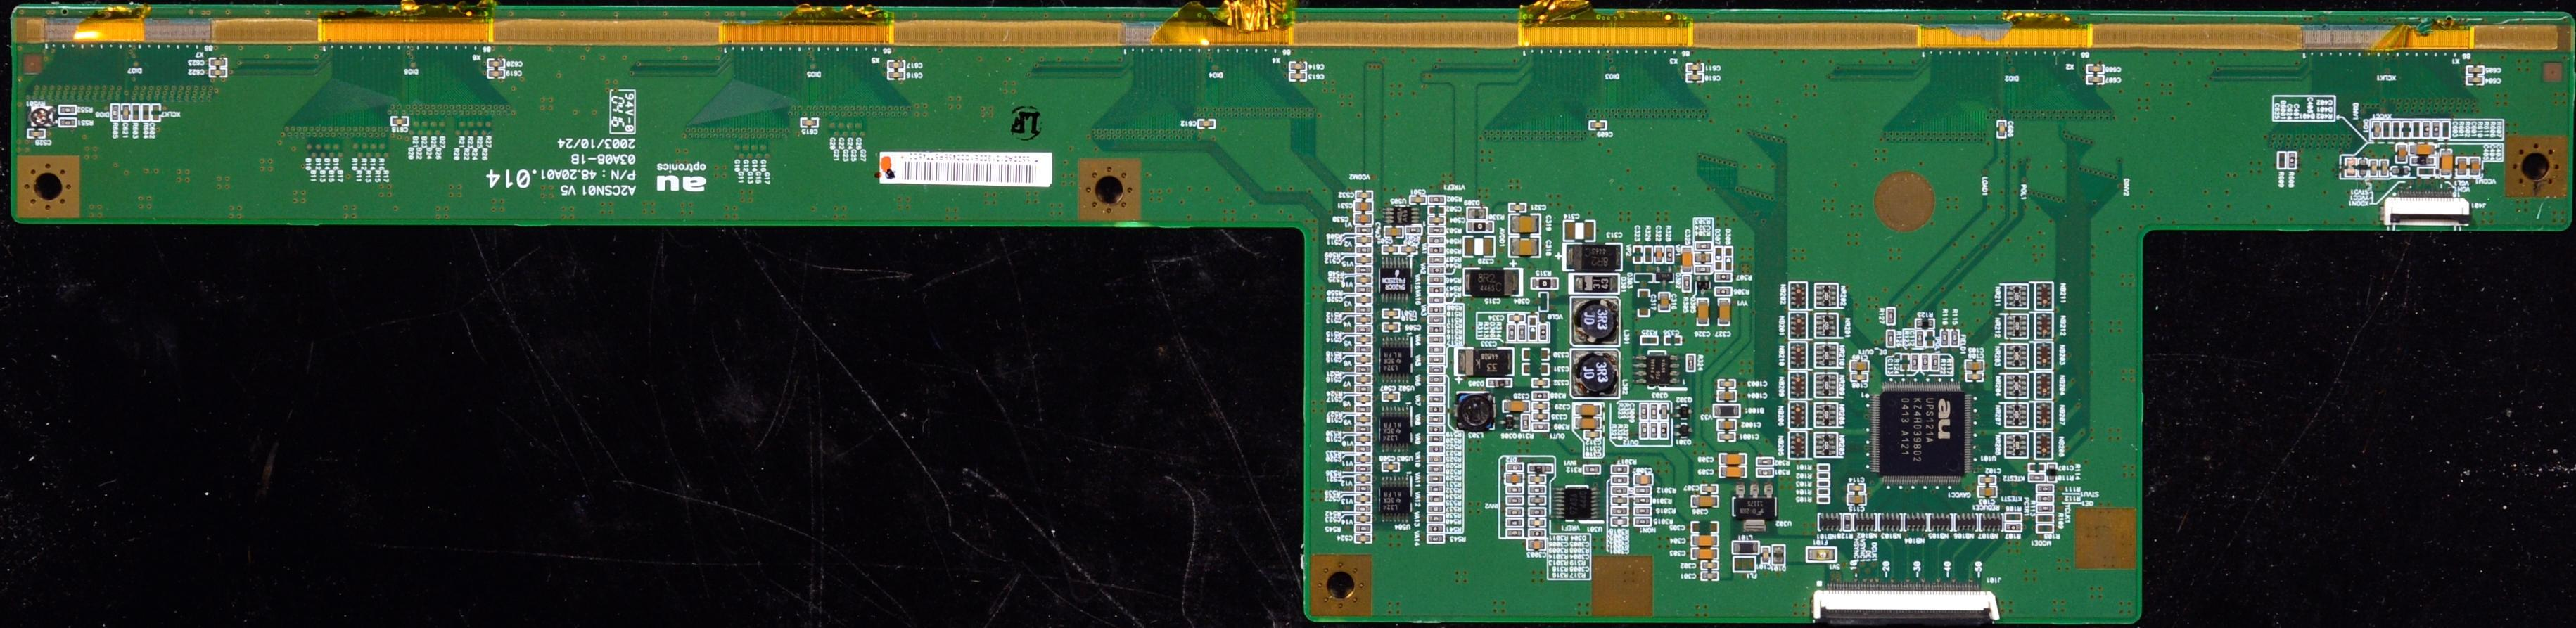Capacitor: (2395, 140, 2487, 178), (1475, 311, 1553, 344), (1464, 268, 1525, 304), (1564, 242, 1626, 273), (1690, 521, 1722, 561), (1464, 233, 1503, 263), (1508, 232, 1543, 258), (1510, 214, 1543, 237), (1720, 454, 1750, 478), (1978, 472, 2001, 501), (1847, 482, 1870, 511), (1566, 222, 1595, 243), (828, 122, 866, 138), (736, 145, 772, 161), (389, 113, 416, 135), (1689, 495, 1720, 511), (1911, 353, 1940, 370), (800, 113, 823, 133), (1718, 298, 1733, 327), (1717, 388, 1741, 404), (1695, 298, 1709, 326), (1523, 349, 1551, 362), (1525, 362, 1553, 375), (1700, 562, 1718, 582), (1196, 117, 1219, 132), (2027, 460, 2057, 472), (1533, 401, 1549, 421), (1658, 289, 1671, 312), (1641, 289, 1653, 316), (1576, 404, 1602, 416), (1576, 418, 1602, 429), (26, 127, 48, 140), (1355, 201, 1377, 214), (1355, 212, 1377, 225), (2423, 122, 2441, 136), (207, 67, 230, 79), (486, 71, 509, 82), (2468, 76, 2491, 87), (207, 56, 230, 67), (887, 58, 907, 71), (1286, 62, 1313, 72), (889, 71, 910, 82), (151, 100, 163, 122), (1633, 475, 1654, 487), (486, 58, 508, 69), (1288, 72, 1313, 82), (1666, 335, 1684, 349), (1533, 375, 1551, 388), (1610, 515, 1628, 528), (2371, 120, 2382, 140), (1426, 205, 1449, 215), (1355, 235, 1375, 247), (1355, 273, 1375, 284), (1510, 312, 1529, 324), (1717, 378, 1737, 390), (1357, 353, 1375, 365), (1717, 432, 1735, 444), (1686, 247, 1694, 271), (1357, 294, 1373, 306), (1357, 314, 1375, 324), (1901, 353, 1911, 372), (1355, 455, 1373, 465), (1700, 483, 1718, 493), (1528, 541, 1546, 551), (1359, 255, 1375, 265), (1355, 334, 1372, 344), (123, 99, 130, 122), (1635, 245, 1643, 263), (2468, 67, 2486, 76), (1429, 215, 1444, 225), (1927, 334, 1937, 349), (1357, 395, 1372, 404), (1656, 247, 1664, 263), (1355, 515, 1372, 523), (1355, 192, 1375, 199), (1359, 373, 1372, 383), (1585, 431, 1600, 439), (1357, 496, 1372, 505), (1357, 418, 1372, 424), (1357, 436, 1372, 442), (1357, 477, 1372, 483)
Resistor: (1429, 424, 1444, 533), (1641, 404, 1672, 439), (348, 138, 391, 159), (2037, 485, 2057, 531), (2382, 120, 2423, 138), (28, 102, 57, 127), (1817, 462, 1833, 505), (1429, 225, 1446, 266), (1429, 302, 1446, 339), (455, 122, 495, 136), (1429, 273, 1446, 301), (2280, 148, 2298, 173), (2006, 508, 2022, 533), (1943, 329, 1963, 347), (1914, 316, 1937, 329), (2031, 473, 2057, 485), (1467, 207, 1488, 220), (1533, 278, 1561, 288), (1531, 421, 1551, 434), (1758, 454, 1776, 467), (131, 99, 141, 122), (1640, 334, 1659, 345), (1759, 465, 1776, 478), (110, 100, 120, 122), (1886, 329, 1898, 347), (1533, 390, 1551, 401), (1521, 414, 1533, 432), (141, 102, 151, 122), (59, 117, 79, 127), (1714, 288, 1733, 298), (1610, 506, 1630, 516), (1684, 353, 1695, 370), (59, 105, 77, 115), (1355, 485, 1373, 495), (1612, 485, 1630, 495), (1636, 496, 1654, 506), (123, 100, 131, 122), (1666, 243, 1674, 265), (1917, 327, 1925, 349), (1717, 275, 1733, 284), (1357, 385, 1373, 395), (1613, 477, 1630, 487), (1635, 487, 1651, 496), (1635, 516, 1651, 526), (1355, 534, 1372, 544), (1682, 275, 1690, 293), (1355, 286, 1373, 294), (1355, 306, 1373, 314), (1584, 467, 1602, 475), (1886, 307, 1896, 322), (1355, 227, 1372, 235), (1357, 245, 1373, 253), (1357, 365, 1372, 373), (1357, 406, 1372, 414), (1357, 444, 1372, 452), (1357, 526, 1372, 534), (2445, 120, 2451, 138), (1355, 266, 1373, 273), (1355, 506, 1373, 513), (1645, 247, 1651, 263), (1355, 327, 1372, 334), (1355, 347, 1372, 353), (1357, 465, 1370, 473), (1357, 427, 1372, 434)
